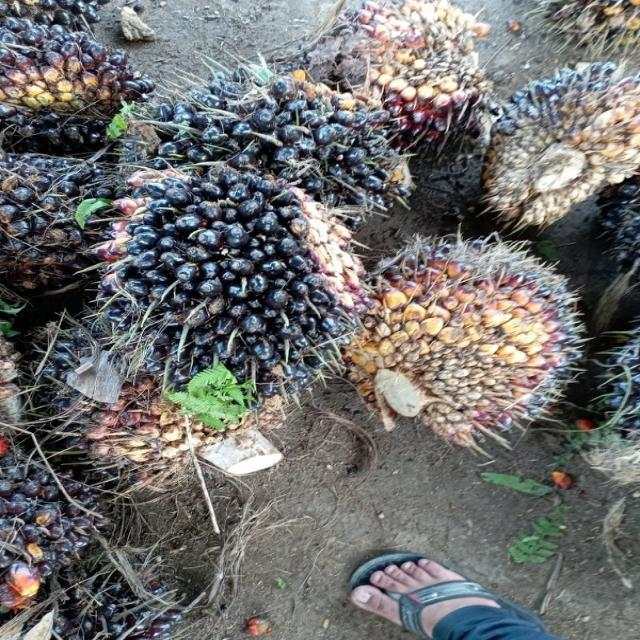fraksi 00: (93, 153, 366, 398), (369, 222, 585, 443), (140, 71, 389, 200), (469, 56, 640, 226), (0, 27, 142, 144)
